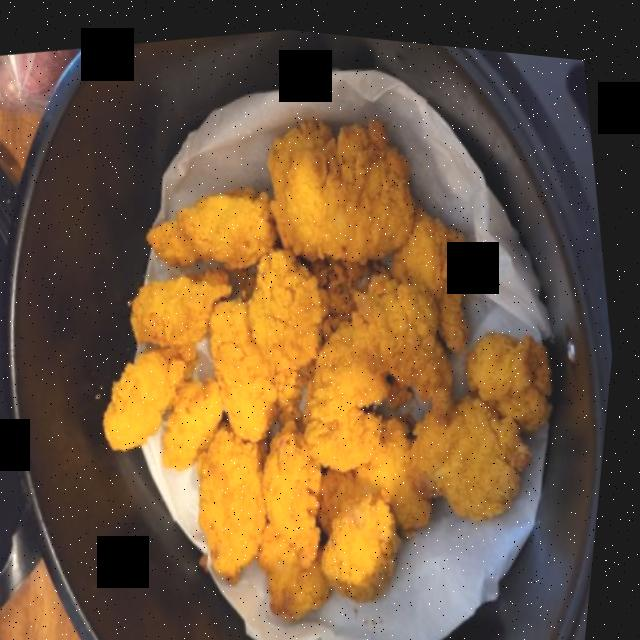Frango: (43, 70, 599, 640)
